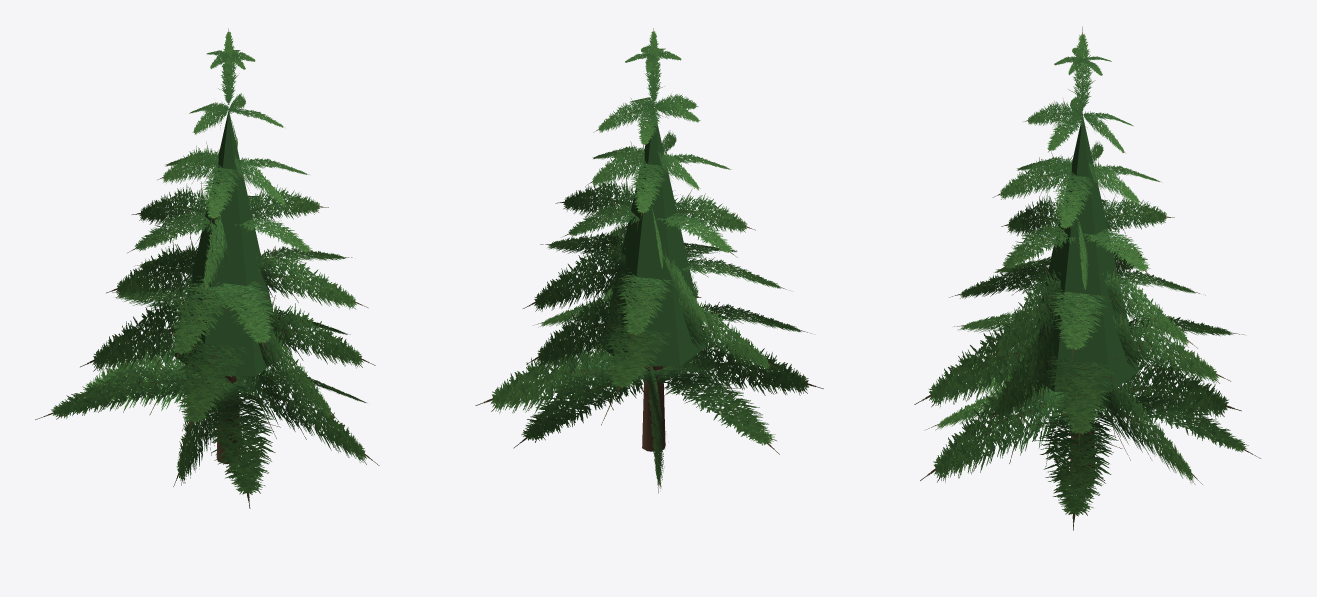
Rendered from pine-b.glb.
The picture shows the model from 3 angles, left to right: view 1: azimuth 30°, elevation 25°; view 2: azimuth 150°, elevation 25°; view 3: azimuth 270°, elevation 25°; orthographic projection. The views are drawn at different scales.
Visible parts, largest first — view 1: pine-b; view 2: pine-b; view 3: pine-b.
Boxes of the visible parts, x1,y1,x2,y2 form: pine-b: (35, 28, 379, 508); pine-b: (475, 28, 823, 493); pine-b: (914, 26, 1260, 530).
Size of the model in its own units: 5.7 by 7.88 by 5.78.
3 materials, 1 textured.
